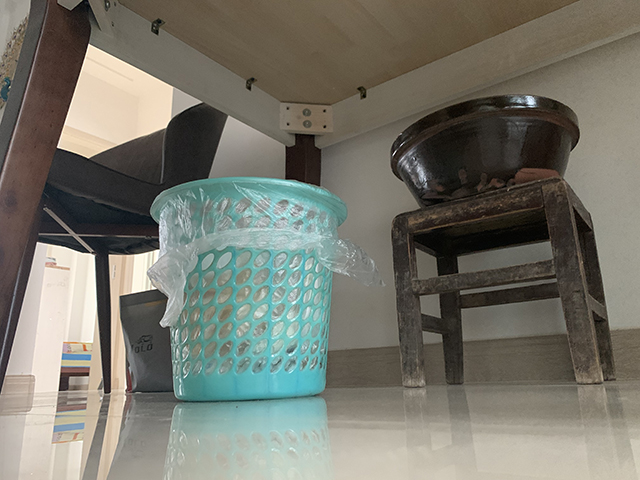stool: (1, 101, 230, 394), (389, 175, 619, 387)
trashcan: (148, 175, 347, 404)
